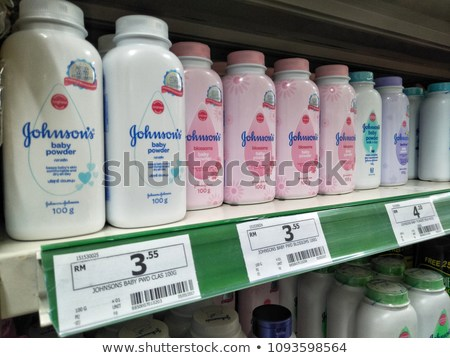Johnsons_bottle: (3, 3, 104, 237)
johnsons_bottle: (108, 12, 187, 228), (229, 50, 275, 203), (184, 41, 223, 208), (282, 55, 322, 198), (321, 61, 356, 193), (357, 69, 385, 190), (389, 76, 414, 184)
